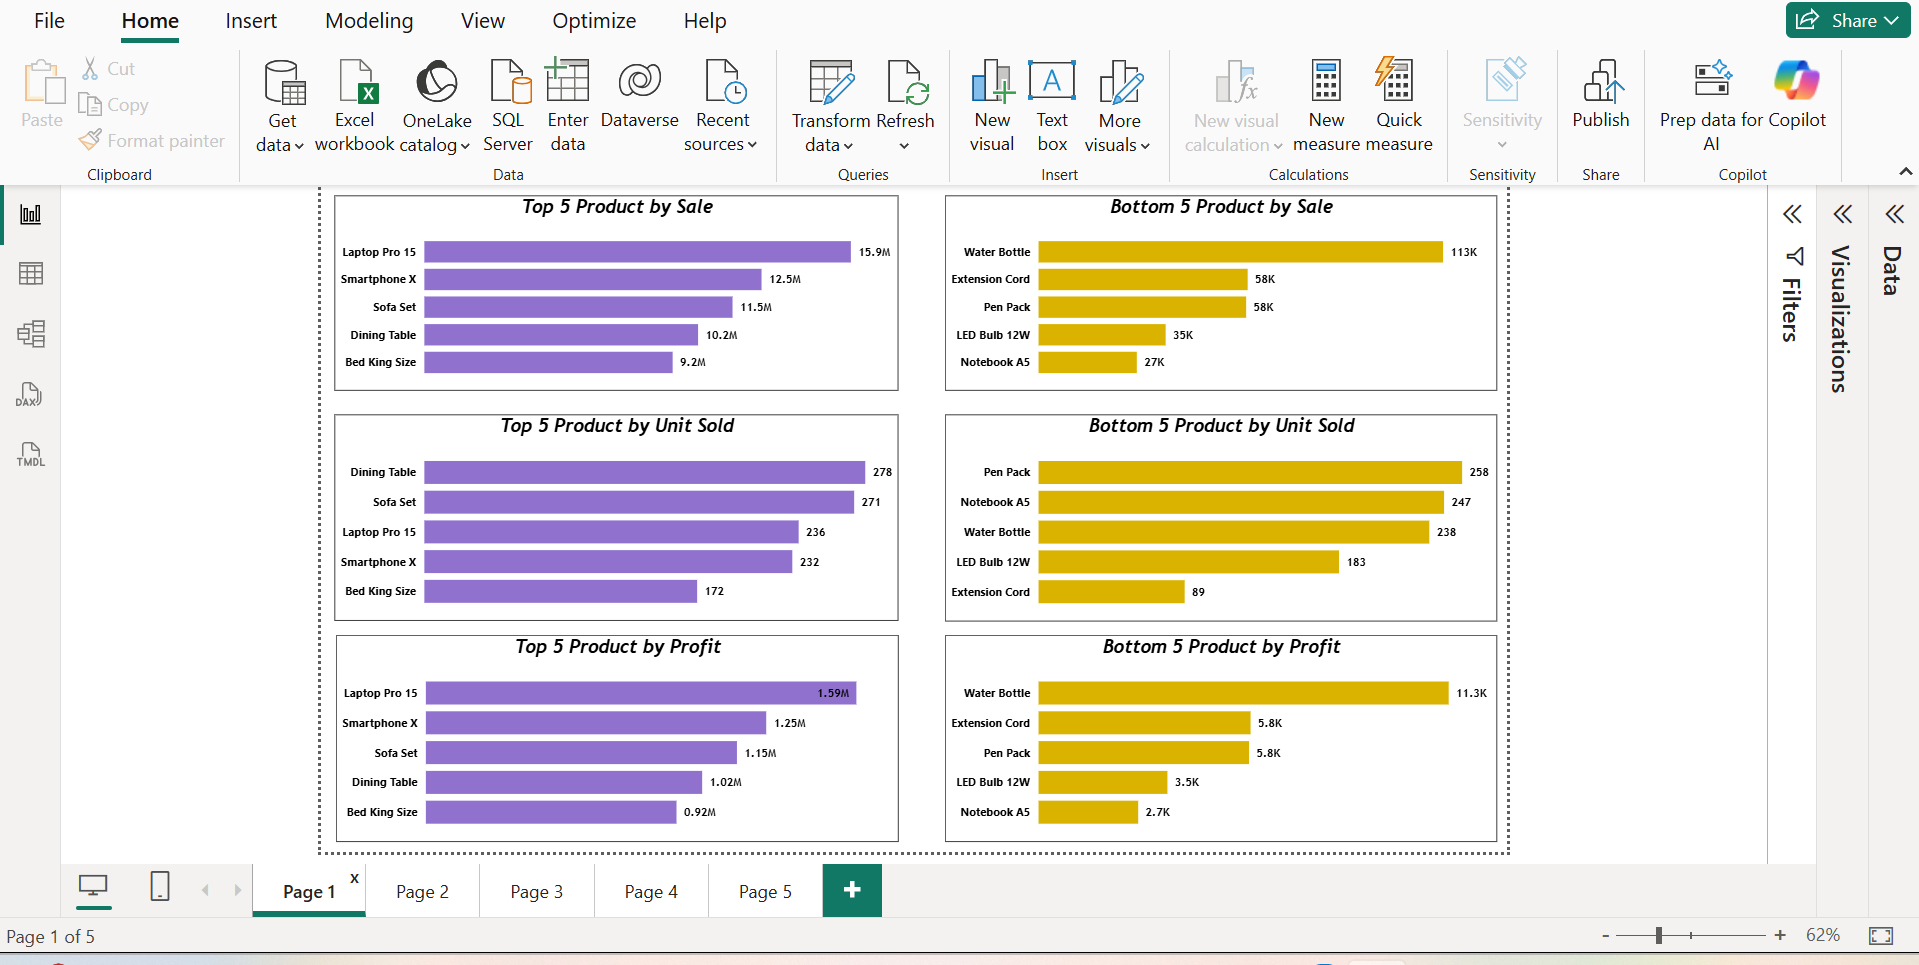

What the dashboard file says about the page in this screenshot:
{"tool":"powerbi","page":{"name":"Page 1","canvas":[1280,720],"ordinal":0},"visuals":[{"type":"clusteredBarChart","title":"Top 5 Product by Sale","fields":{"Y":["Sum(Sales_Table.Net Sale)"],"Category":["Product_Table.Product_Name"]},"box":[14.6,11.3,608.8,210.5],"z":0},{"type":"clusteredBarChart","title":"Bottom 5 Product by Sale","fields":{"Y":["Sum(Sales_Table.Net Sale)"],"Category":["Product_Table.Product_Name"]},"box":[673.6,11.3,595.9,210.5],"z":1000},{"type":"clusteredBarChart","title":"Top 5 Product by Unit Sold","fields":{"Category":["Product_Table.Product_Name"],"Y":["Sum(Sales_Table.Unit_Sold)"]},"box":[15.1,247.6,608.5,223],"z":2000},{"type":"clusteredBarChart","title":"Bottom 5 Product by Unit Sold","fields":{"Category":["Product_Table.Product_Name"],"Y":["Sum(Sales_Table.Unit_Sold)"]},"box":[673.6,247.7,595.9,223.5],"z":3000},{"type":"clusteredBarChart","title":"Top 5 Product by Profit","fields":{"Category":["Product_Table.Product_Name"],"Y":["Sum(Sales_Table.Profit)"]},"box":[16.2,485.8,607.2,223.5],"z":4000},{"type":"clusteredBarChart","title":"Bottom 5 Product by Profit","fields":{"Category":["Product_Table.Product_Name"],"Y":["Sum(Sales_Table.Profit)"]},"box":[673.6,485.8,595.9,223.5],"z":5000}]}

Visuals, with their boxes on the page's 1280x720 design canvas (x1, y1, x2, y2). These are canvas units, not pixel positions in the 1919x965 screenshot, which may show the page scaled, cropped or inside an application window:
"Top 5 Product by Sale" clusteredBarChart: l=15, t=11, r=623, b=222
"Bottom 5 Product by Sale" clusteredBarChart: l=674, t=11, r=1270, b=222
"Top 5 Product by Unit Sold" clusteredBarChart: l=15, t=248, r=624, b=471
"Bottom 5 Product by Unit Sold" clusteredBarChart: l=674, t=248, r=1270, b=471
"Top 5 Product by Profit" clusteredBarChart: l=16, t=486, r=623, b=709
"Bottom 5 Product by Profit" clusteredBarChart: l=674, t=486, r=1270, b=709
